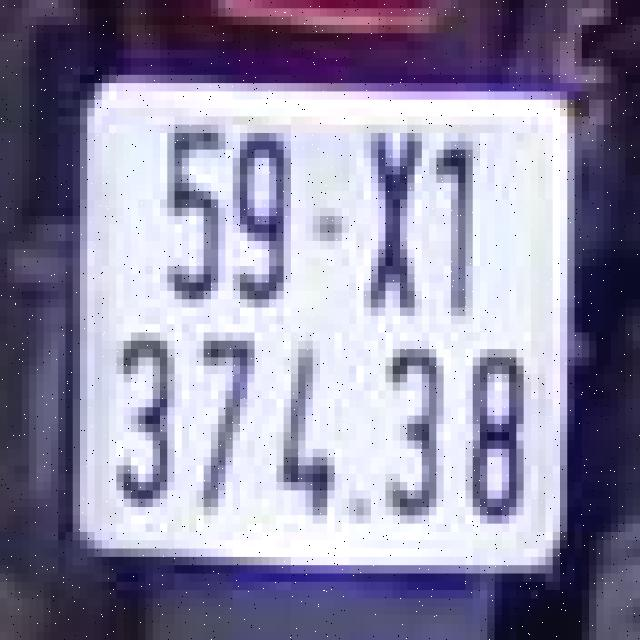1: (429, 121, 502, 320)
3: (386, 332, 466, 540), (109, 332, 189, 524)
4: (276, 324, 334, 524)
5: (145, 108, 233, 324)
7: (192, 324, 272, 524)
8: (447, 341, 542, 540)
9: (218, 116, 306, 324)
X: (360, 121, 440, 320)
